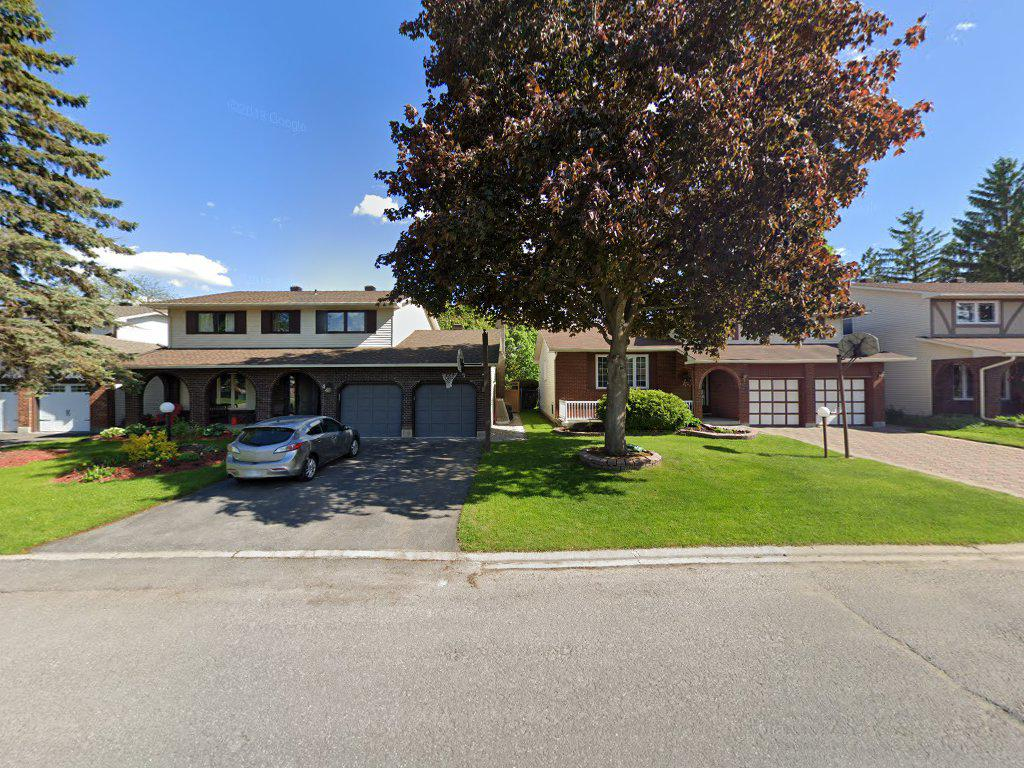trunk: (600, 276, 638, 475)
